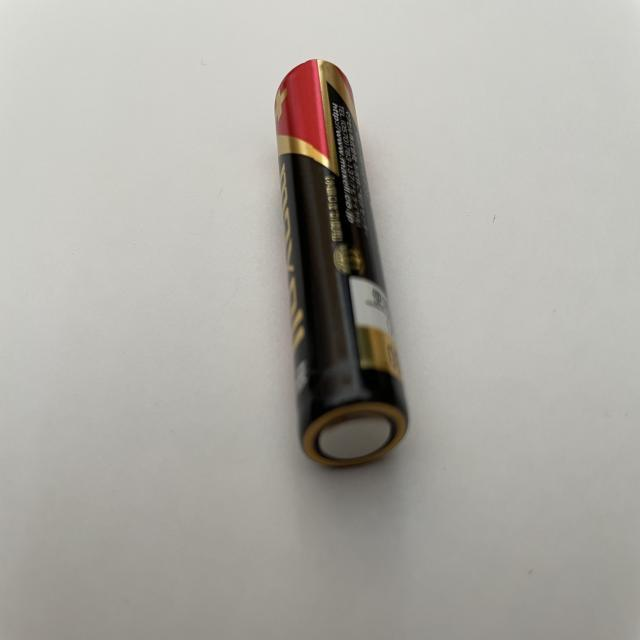AAA: (274, 58, 408, 476)
